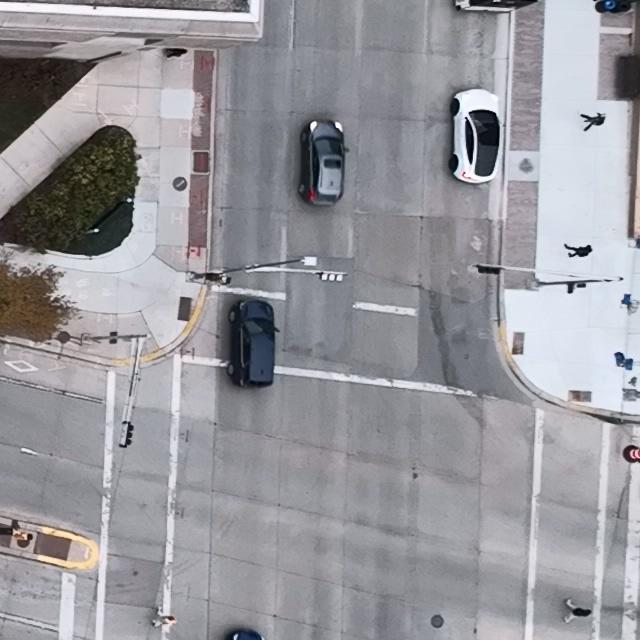car: (449, 88, 504, 185), (227, 299, 281, 388), (298, 119, 350, 207)
